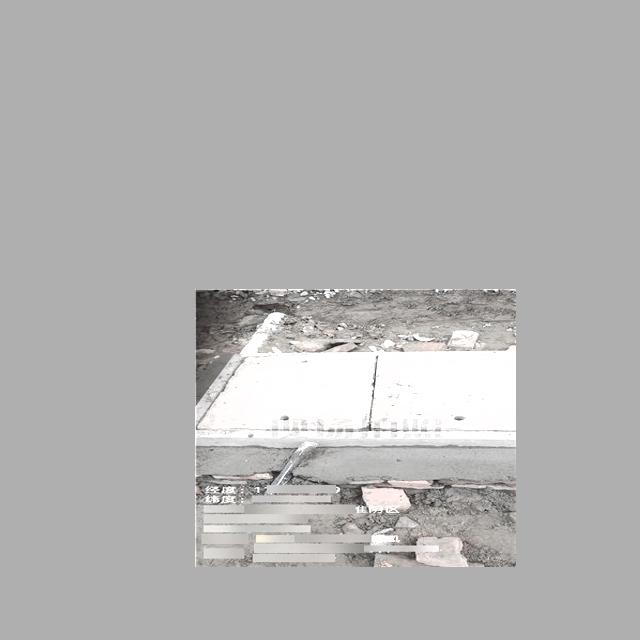good: (196, 350, 516, 446)
